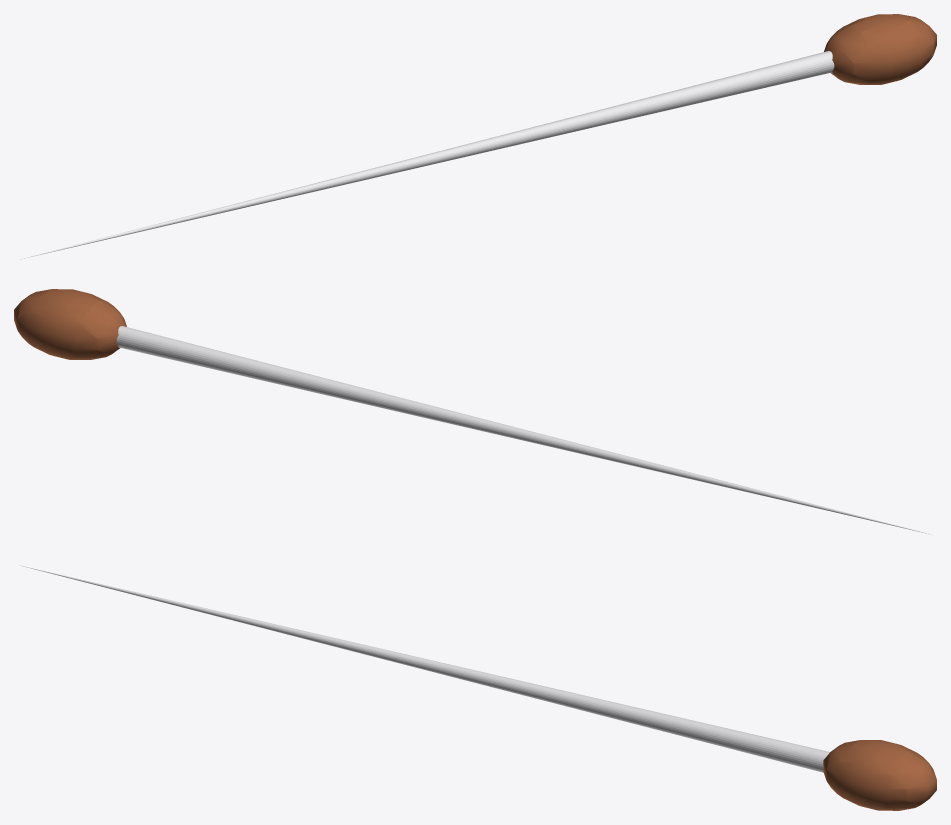
File: baton.fbx
3 views of the same model, one above another, from view 1: azimuth 30°, elevation 25°; view 2: azimuth 150°, elevation 25°; view 3: azimuth 330°, elevation 25° (orthographic).
Visible parts, largest first — view 1: メタボール.001; view 2: メタボール.001; view 3: メタボール.001.
Boxes of the visible parts, x1=… form: メタボール.001: x1=20, y1=14, x2=936, y2=259; メタボール.001: x1=14, y1=289, x2=930, y2=534; メタボール.001: x1=20, y1=565, x2=936, y2=810.
Bounding box in the file's own units: 112 × 6.81 × 8.44.
